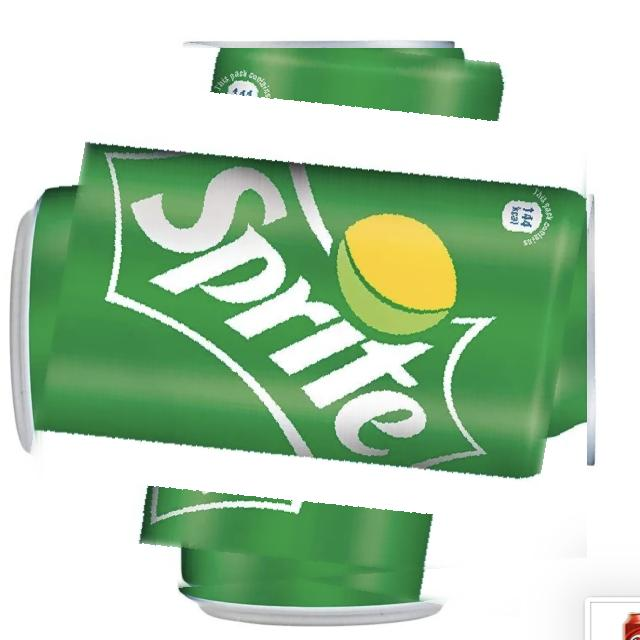recyclable: (37, 49, 587, 598)
